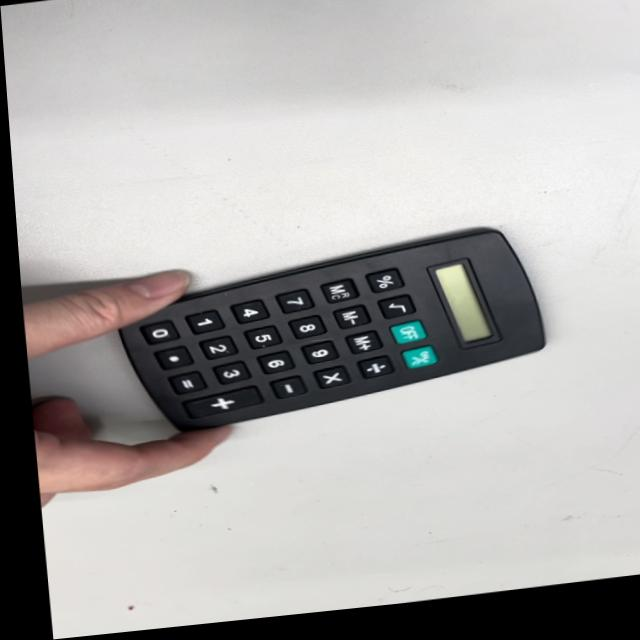calculator: (115, 223, 546, 440)
